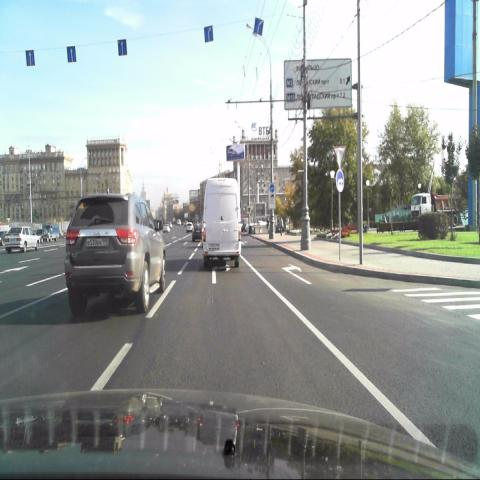4_1_2: (335, 168, 345, 193)
